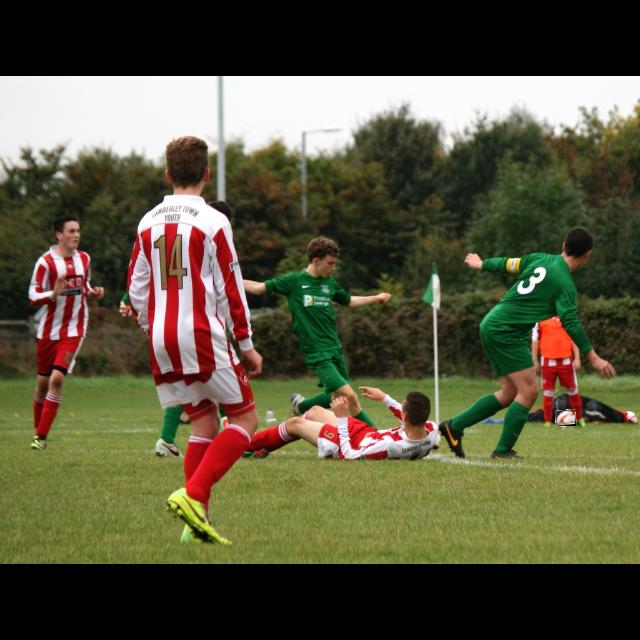Football: (556, 410, 576, 426)
